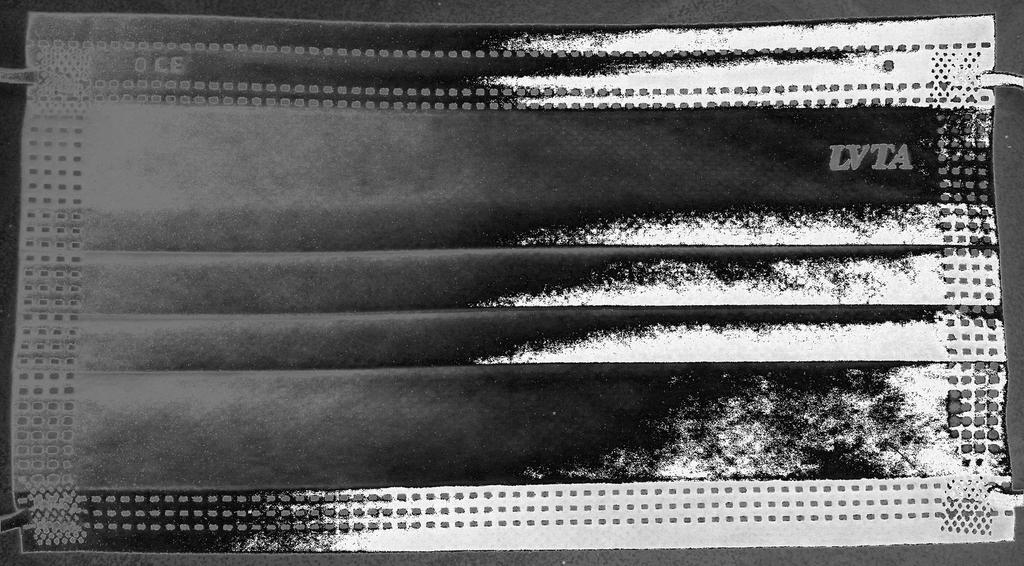High GSM: (481, 13, 1014, 481)
